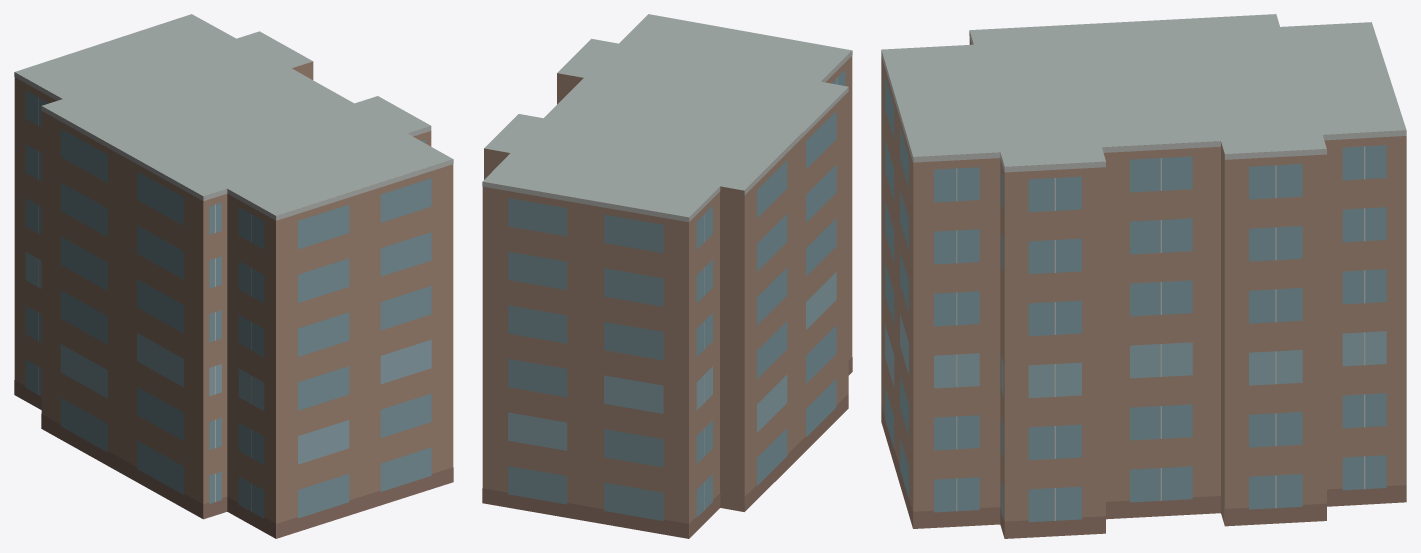
File: survey-upis-32907281.glb
The picture shows the model from 3 angles, left to right: view 1: azimuth 30°, elevation 25°; view 2: azimuth 150°, elevation 25°; view 3: azimuth 270°, elevation 25°; orthographic projection. The views are drawn at different scales.
Visible parts, largest first — view 1: survey-upis-32907281.tmp; view 2: survey-upis-32907281.tmp; view 3: survey-upis-32907281.tmp.
Part boxes in pixels (left/top/right/bottom): survey-upis-32907281.tmp: left=14, top=14, right=453, bottom=538; survey-upis-32907281.tmp: left=482, top=14, right=852, bottom=538; survey-upis-32907281.tmp: left=881, top=14, right=1406, bottom=538.
Size of the model in its own units: 14.15 by 16.05 by 20.55.
